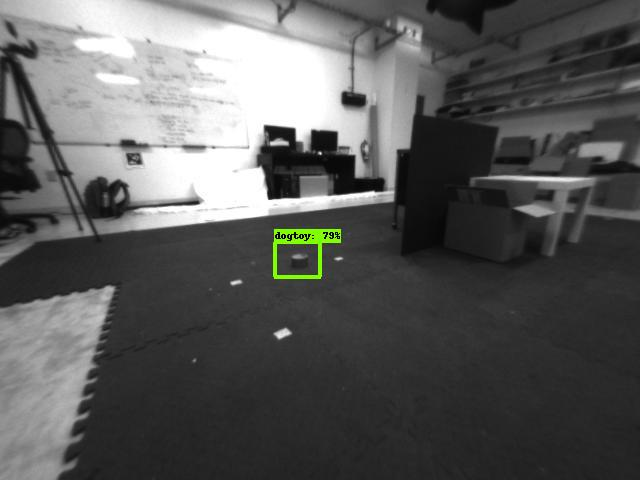dogtoy: (280, 244, 316, 276)
